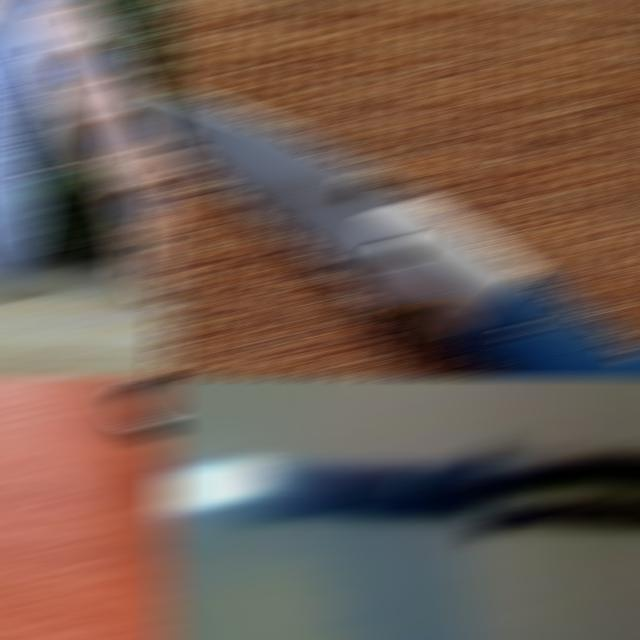Knife: (157, 442, 640, 540)
